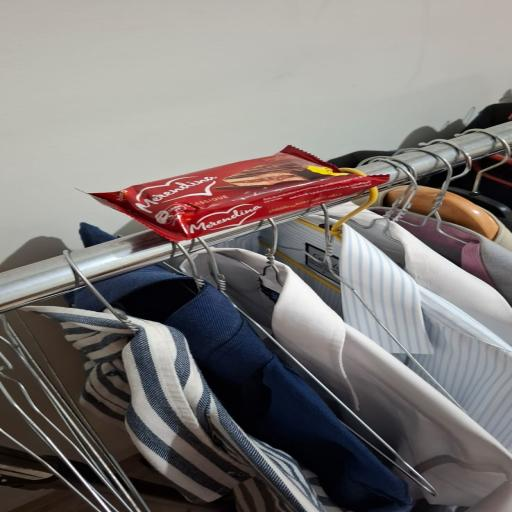merendina: (90, 132, 421, 243)
